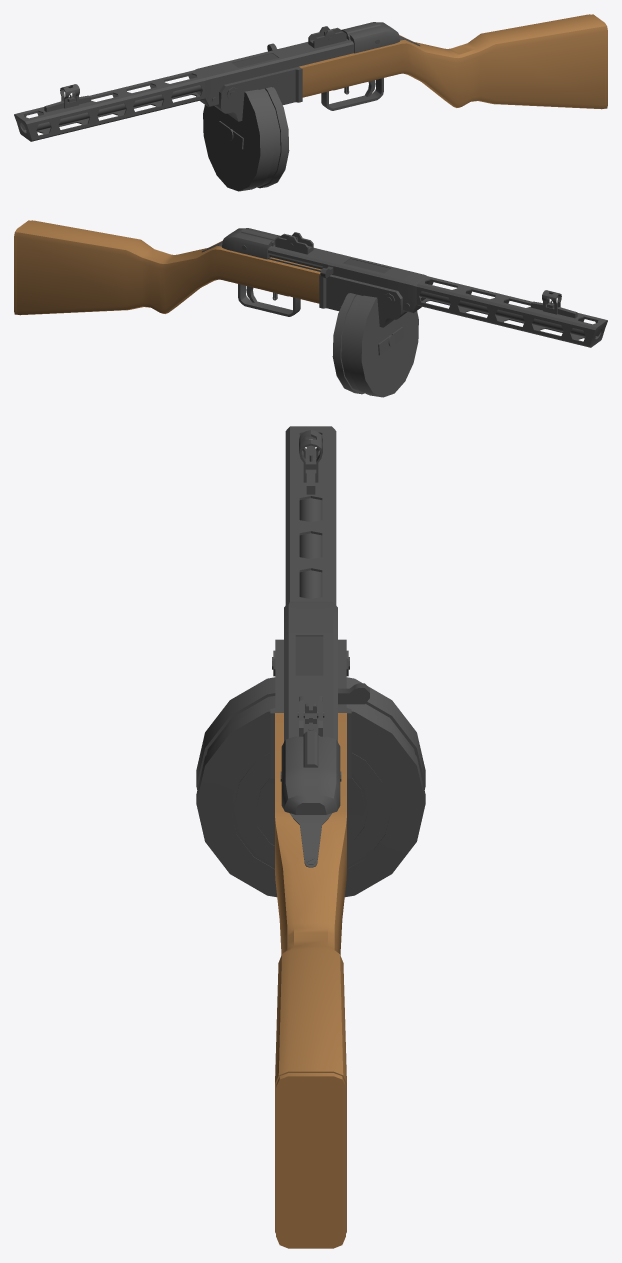
Rendered from ppsh 41 sketchfab.fbx.
3 renders of one model, top to bottom at view 1: azimuth 30°, elevation 25°; view 2: azimuth 150°, elevation 25°; view 3: azimuth 270°, elevation 25°, orthographic. The views are drawn at different scales.
Visible parts, largest first — view 1: Stock, Main, Drum Mag, Bolt; view 2: Stock, Main, Drum Mag, Bolt; view 3: Stock, Drum Mag, Main, Bolt.
Part boxes in pixels (left/top/right/bottom): Stock: left=299, top=14, right=607, bottom=109; Main: left=14, top=22, right=419, bottom=141; Drum Mag: left=203, top=87, right=289, bottom=191; Bolt: left=232, top=43, right=278, bottom=67; Stock: left=14, top=220, right=321, bottom=315; Main: left=202, top=228, right=607, bottom=347; Drum Mag: left=332, top=293, right=418, bottom=397; Bolt: left=320, top=258, right=390, bottom=278; Stock: left=275, top=713, right=346, bottom=1248; Drum Mag: left=196, top=677, right=425, bottom=897; Main: left=270, top=426, right=351, bottom=867; Bolt: left=295, top=636, right=369, bottom=704.
Bounding box in the file's own units: 282 × 68.67 × 48.34.
